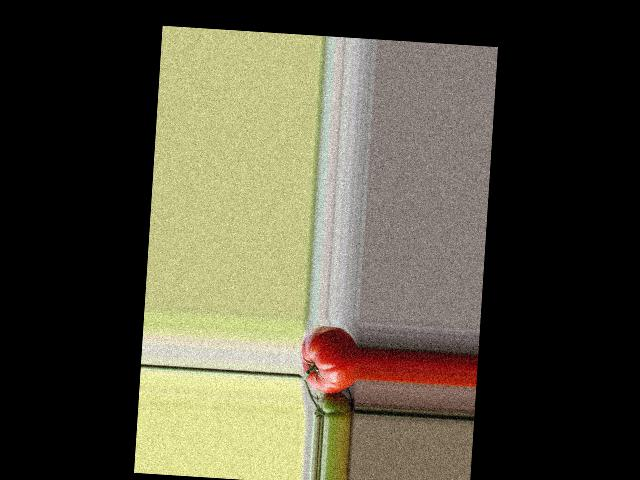tomato: (299, 324, 360, 394)
